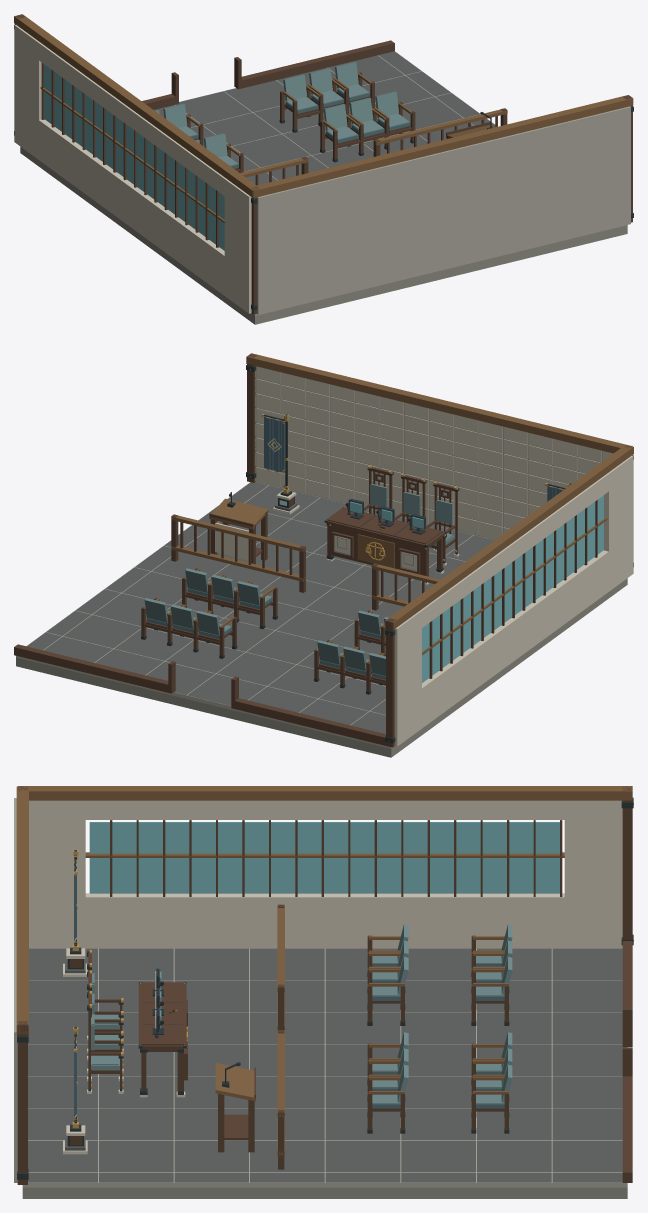
The model's file is visual-far.glb.
3 renders of one model, top to bottom at view 1: azimuth 30°, elevation 25°; view 2: azimuth 150°, elevation 25°; view 3: azimuth 270°, elevation 25°, orthographic. The views are drawn at different scales.
Parts seen in each view (by area): view 1: 真实窗洞、木梁与切角房间墙, 分层实心台基与独立石铺面, 三席连座与连续倾斜靠背 (×4), 旁听界面与真实中间通道; view 2: 真实窗洞、木梁与切角房间墙, 分层实心台基与独立石铺面, 司法审判席, 三席连座与连续倾斜靠背 (×4), 旁听界面与真实中间通道, 连续斜承稿台、开放后格与话筒, 外交仪仗旗座 · 独立光学用途; view 3: 分层实心台基与独立石铺面, 真实窗洞、木梁与切角房间墙, 三席连座与连续倾斜靠背 (×4), 司法审判席, 连续斜承稿台、开放后格与话筒, 旁听界面与真实中间通道, 外交仪仗旗座 · 独立光学用途 (×2).
Part boxes in pixels (x1=…): 真实窗洞、木梁与切角房间墙: x1=14, y1=14, x2=633, y2=314; 分层实心台基与独立石铺面: x1=20, y1=51, x2=627, y2=324; 三席连座与连续倾斜靠背 (×4): x1=155, y1=62, x2=415, y2=172; 旁听界面与真实中间通道: x1=240, y1=108, x2=507, y2=185; 真实窗洞、木梁与切角房间墙: x1=14, y1=353, x2=633, y2=747; 分层实心台基与独立石铺面: x1=16, y1=481, x2=627, y2=757; 司法审判席: x1=324, y1=466, x2=459, y2=585; 三席连座与连续倾斜靠背 (×4): x1=141, y1=568, x2=388, y2=694; 旁听界面与真实中间通道: x1=171, y1=514, x2=440, y2=610; 连续斜承稿台、开放后格与话筒: x1=209, y1=492, x2=268, y2=564; 外交仪仗旗座 · 独立光学用途: x1=261, y1=414, x2=299, y2=514; 分层实心台基与独立石铺面: x1=22, y1=948, x2=627, y2=1198; 真实窗洞、木梁与切角房间墙: x1=14, y1=786, x2=633, y2=1184; 三席连座与连续倾斜靠背 (×4): x1=367, y1=924, x2=512, y2=1133; 司法审判席: x1=87, y1=950, x2=187, y2=1097; 连续斜承稿台、开放后格与话筒: x1=215, y1=1062, x2=255, y2=1152; 旁听界面与真实中间通道: x1=277, y1=904, x2=284, y2=1169; 外交仪仗旗座 · 独立光学用途 (×2): x1=63, y1=850, x2=87, y2=1154.
Bounding box in the file's own units: 9.04 × 3.08 × 9.84.
20 materials, 20 textured.
